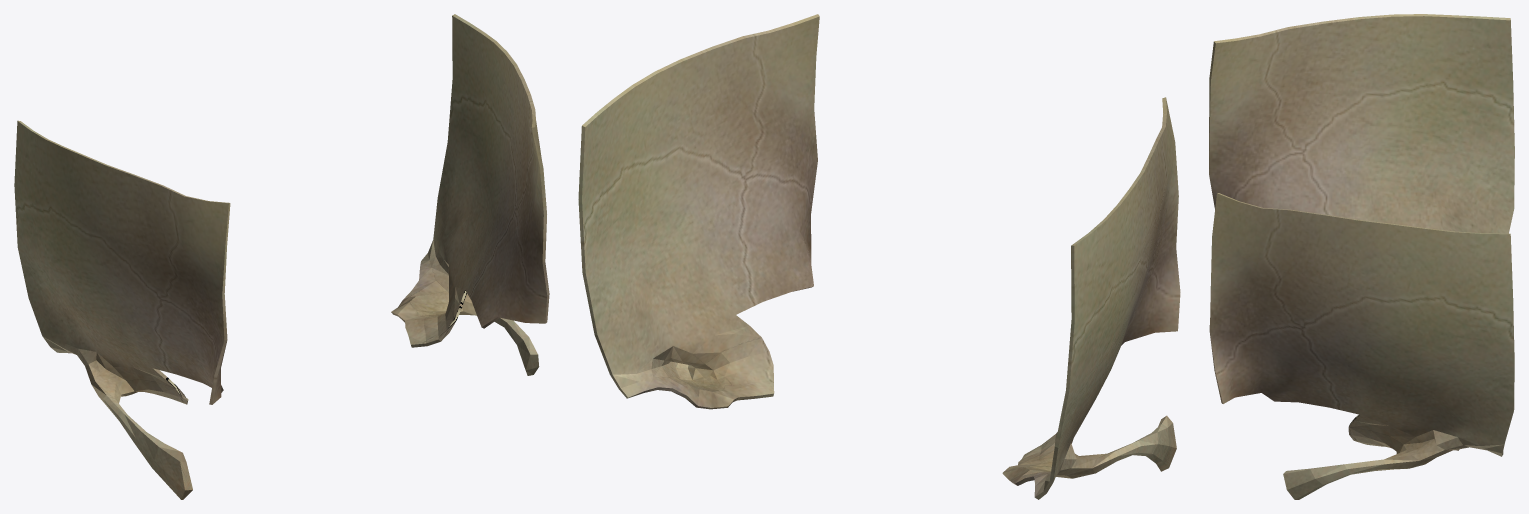
Rendered from 男性_骨骼系统_颞骨.fbx.
3 views of the same model, side by side, from view 1: azimuth 30°, elevation 25°; view 2: azimuth 150°, elevation 25°; view 3: azimuth 270°, elevation 25° (orthographic). The views are drawn at different scales.
Parts seen in each view (by area): view 1: 男性_骨骼系统_颞骨; view 2: 男性_骨骼系统_颞骨; view 3: 男性_骨骼系统_颞骨.
Part boxes in pixels (box(x1,y1,x2,y2)): 男性_骨骼系统_颞骨: box(14, 14, 549, 499); 男性_骨骼系统_颞骨: box(578, 14, 1180, 499); 男性_骨骼系统_颞骨: box(1209, 14, 1514, 499).
Size of the model in its own units: 14.85 by 9.93 by 8.78.
